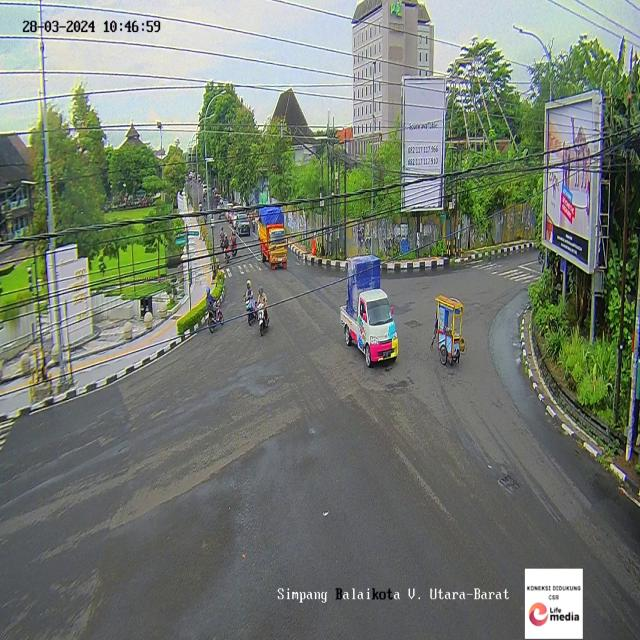car: (236, 213, 251, 237)
motorcycle: (206, 285, 226, 338), (256, 284, 272, 336), (245, 276, 257, 325), (224, 235, 232, 263), (231, 229, 238, 258)
truck: (342, 283, 399, 367), (258, 207, 287, 269)
